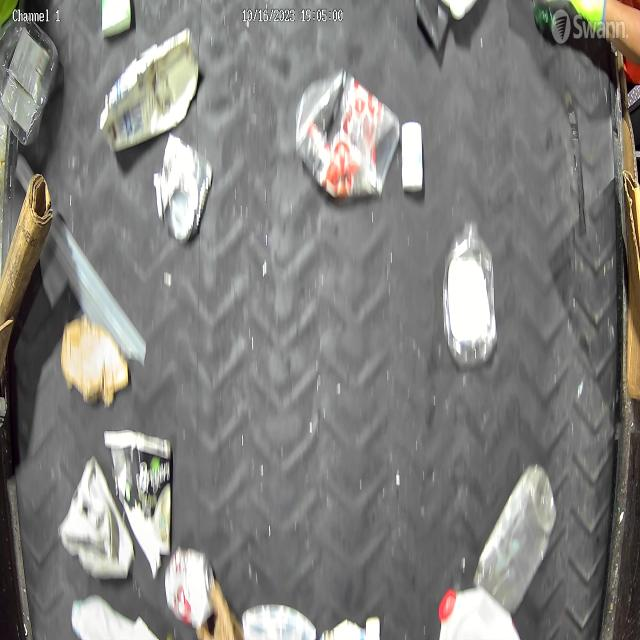can: (153, 131, 214, 244), (165, 544, 216, 628)
milk_jug: (99, 27, 200, 156), (438, 585, 523, 640)
plastic_bottle: (442, 217, 499, 372)
